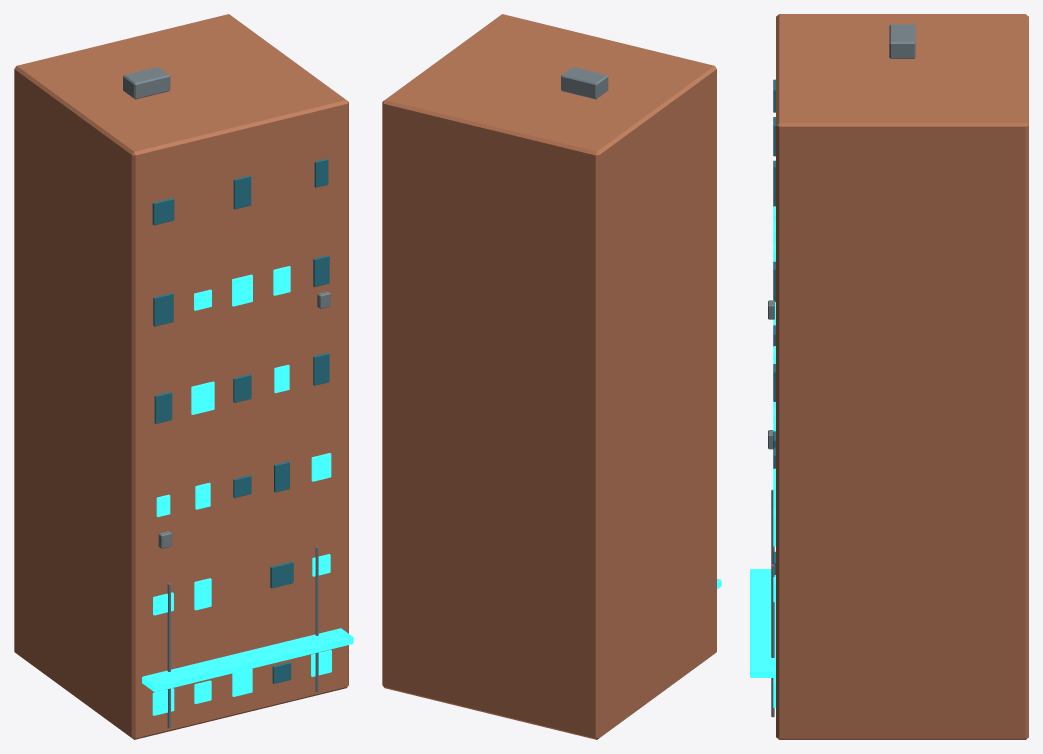
The model's file is building_037_seed11.glb.
The picture shows the model from 3 angles, left to right: view 1: azimuth 30°, elevation 25°; view 2: azimuth 150°, elevation 25°; view 3: azimuth 270°, elevation 25°; orthographic projection. The views are drawn at different scales.
Visible parts, largest first — view 1: building_037_seed11; view 2: building_037_seed11; view 3: building_037_seed11.
Boxes of the visible parts, left/top/right/bottom form: building_037_seed11: left=14, top=14, right=353, bottom=739; building_037_seed11: left=382, top=14, right=721, bottom=739; building_037_seed11: left=750, top=14, right=1028, bottom=739.
Size of the model in its own units: 6.9 by 18.36 by 7.31.
